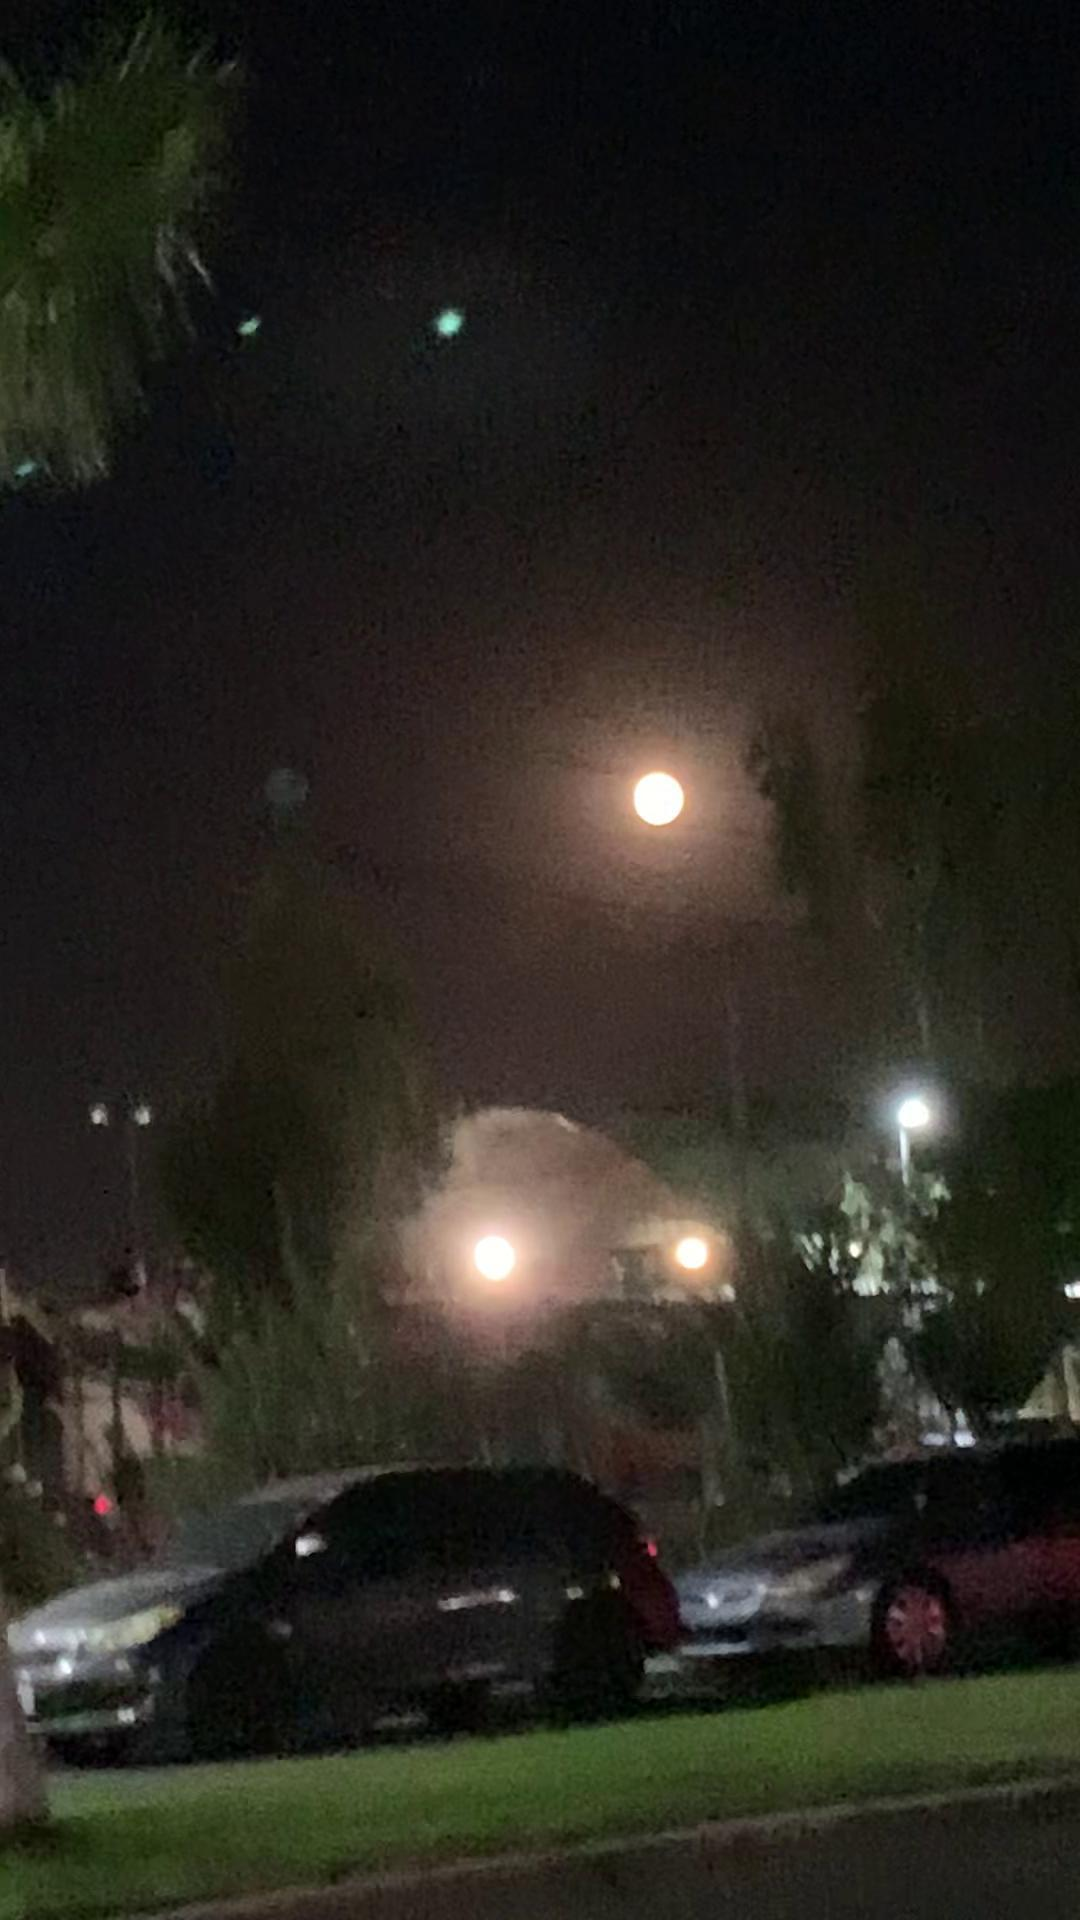moon: (609, 771, 698, 848)
